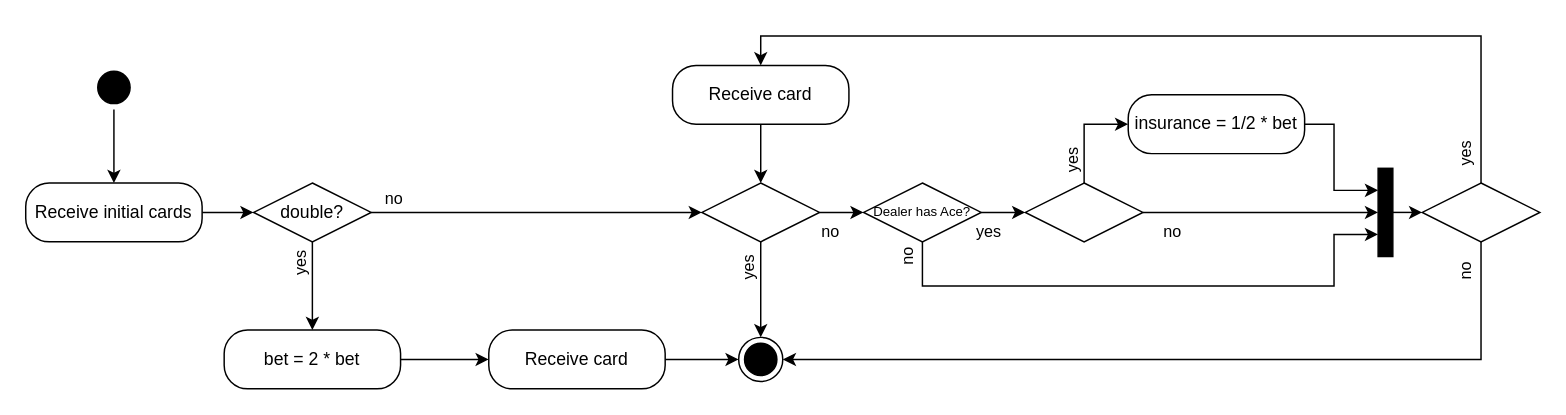
The diagram is 1566 pixels wide and 415 high, and some of its shapes have lost their labels. The centre of each missing label's shape, as x and y in pixels:
"hand value ≥ 21" belongs at (x=760, y=212).
"hit?" belongs at (x=1480, y=212).
"insure?" belongs at (x=1083, y=212).
